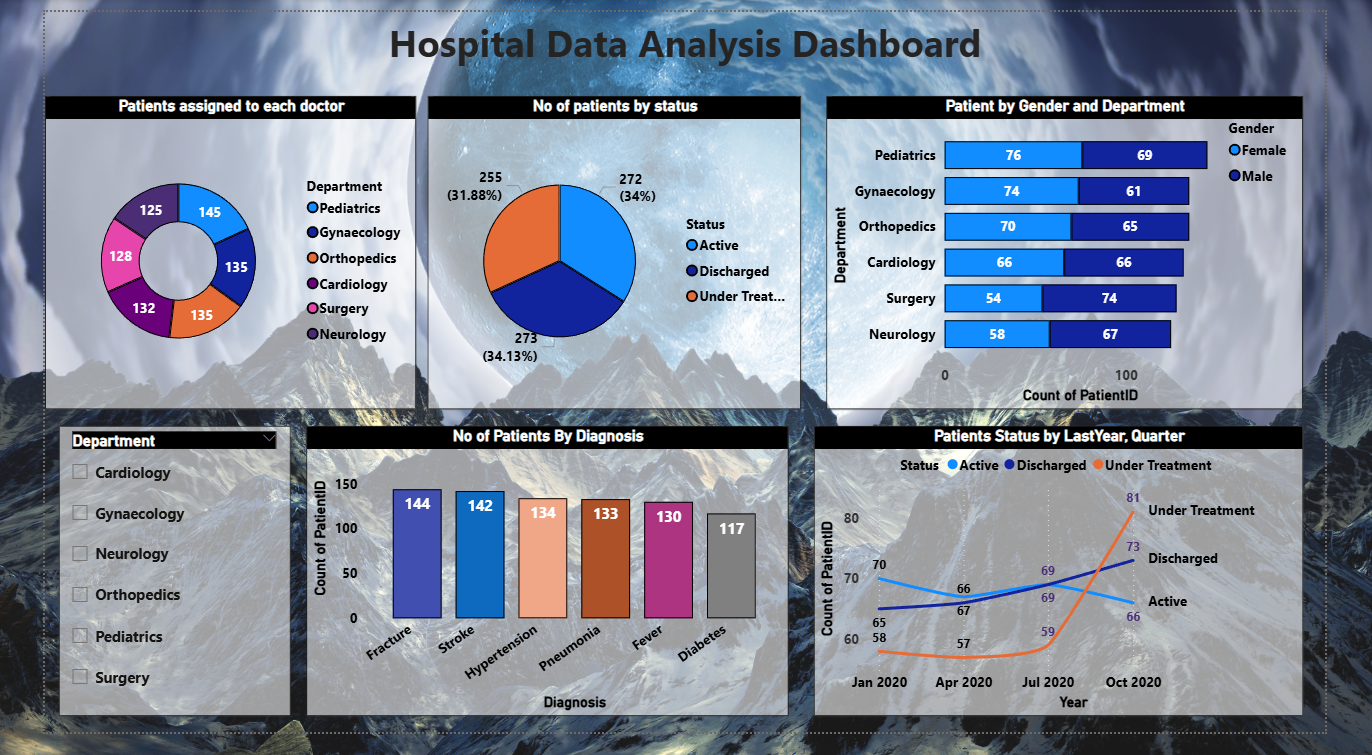

This screenshot's page, from the dashboard's own definition file:
{"tool":"powerbi","page":{"name":"Page 1","canvas":[1280,720],"ordinal":0},"visuals":[{"type":"donutChart","title":"Patients assigned  to each doctor","fields":{"Y":["CountNonNull(Hospital Patient data.PatientID)"],"Category":["Hospital Patient data.Department"]},"box":[0,83.2,371.6,313.7],"z":0},{"type":"pieChart","title":"No of patients by status","fields":{"Series":["Hospital Patient data.Status"],"Y":["CountNonNull(Hospital Patient data.PatientID)"]},"box":[382.4,83.2,374,313.7],"z":1000},{"type":"barChart","title":"Patient by Gender and Department","fields":{"Y":["CountNonNull(Hospital Patient data.PatientID)"],"Category":["Hospital Patient data.Department"],"Series":["Hospital Patient data.Gender"]},"box":[781.8,83.2,476.5,313.7],"z":2000},{"type":"textbox","box":[0,0,1280.3,63.1],"z":3000},{"type":"slicer","fields":{"Values":["Hospital Patient data.Department"]},"box":[13.3,413.8,231.6,290.8],"z":4000},{"type":"columnChart","title":"No of Patients By Diagnosis","fields":{"Y":["CountNonNull(Hospital Patient data.PatientID)"],"Category":["Hospital Patient data.Diagnosis"]},"box":[261.8,413.8,482.6,290.8],"z":5000},{"type":"lineChart","title":"Patients Status by LastYear, Quarter ","fields":{"Category":["Hospital Patient data.AdmissionDate.Variation.Date Hierarchy.Year","Hospital Patient data.AdmissionDate.Variation.Date Hierarchy.Quarter"],"Y":["CountNonNull(Hospital Patient data.PatientID)"],"Series":["Hospital Patient data.Status"]},"box":[768.5,413.8,489.8,290.8],"z":6000}]}

Visuals, with their boxes in screenshot pixels (x1, y1, x2, y2), scaled from the page's 1280x720 canvas onto the 1372x755 screenshot:
"Patients assigned  to each doctor" donutChart: <bbox>0, 87, 398, 416</bbox>
"No of patients by status" pieChart: <bbox>410, 87, 811, 416</bbox>
"Patient by Gender and Department" barChart: <bbox>838, 87, 1349, 416</bbox>
textbox: <bbox>0, 0, 1371, 66</bbox>
slicer - Hospital Patient data.Department: <bbox>14, 434, 263, 739</bbox>
"No of Patients By Diagnosis" columnChart: <bbox>281, 434, 798, 739</bbox>
"Patients Status by LastYear, Quarter " lineChart: <bbox>824, 434, 1349, 739</bbox>
